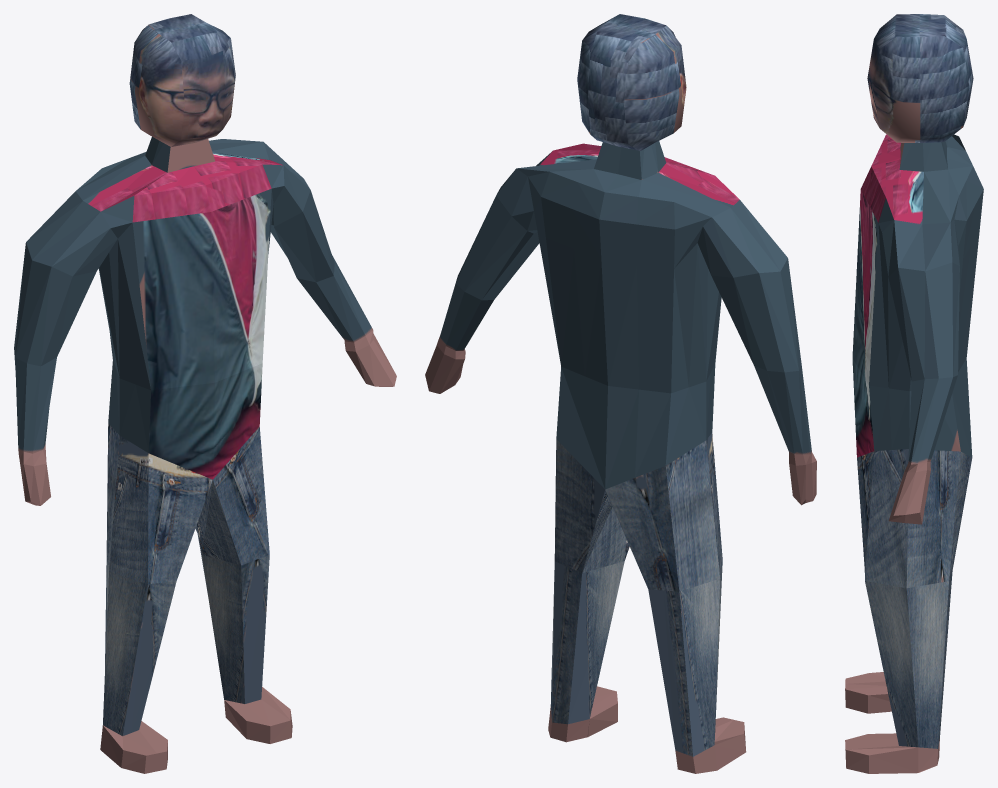
Rendered from NguyenDeadMen.fbx.
3 views of the same model, side by side, from view 1: azimuth 30°, elevation 25°; view 2: azimuth 150°, elevation 25°; view 3: azimuth 270°, elevation 25° (orthographic). The views are drawn at different scales.
Parts seen in each view (by area): view 1: pCube1, pCube2; view 2: pCube1, pCube2; view 3: pCube1, pCube2.
Boxes of the visible parts, x1,y1,x2,y2 form: pCube1: [14, 137, 396, 773]; pCube2: [129, 14, 235, 146]; pCube1: [425, 141, 816, 773]; pCube2: [577, 14, 686, 150]; pCube1: [845, 134, 983, 773]; pCube2: [867, 14, 973, 142].
Size of the model in its own units: 4.2 by 7.56 by 1.34.
